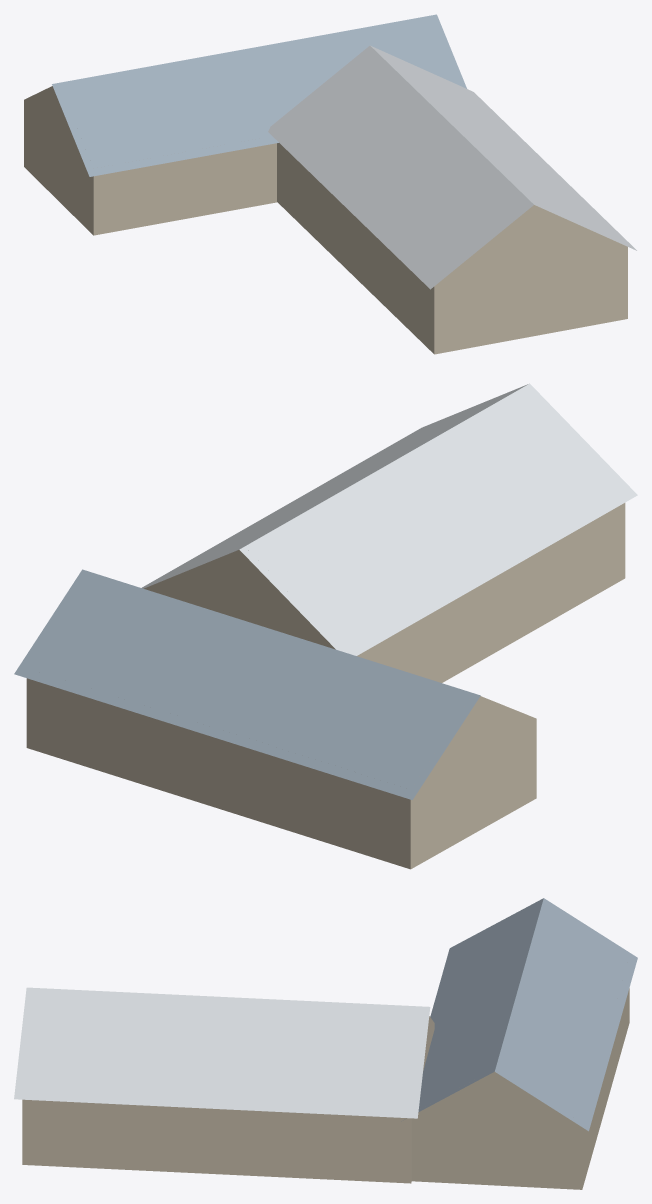
The picture shows the model from 3 angles, top to bottom: view 1: azimuth 30°, elevation 25°; view 2: azimuth 150°, elevation 25°; view 3: azimuth 270°, elevation 25°; orthographic projection. The views are drawn at different scales.
Parts seen in each view (by area): view 1: tuile; view 2: tuile; view 3: tuile.
Part boxes in pixels (bbox=[...]): tuile: bbox=[24, 14, 636, 354]; tuile: bbox=[14, 383, 637, 869]; tuile: bbox=[14, 898, 637, 1189].
Size of the model in its own units: 20.28 by 6.91 by 29.19.
